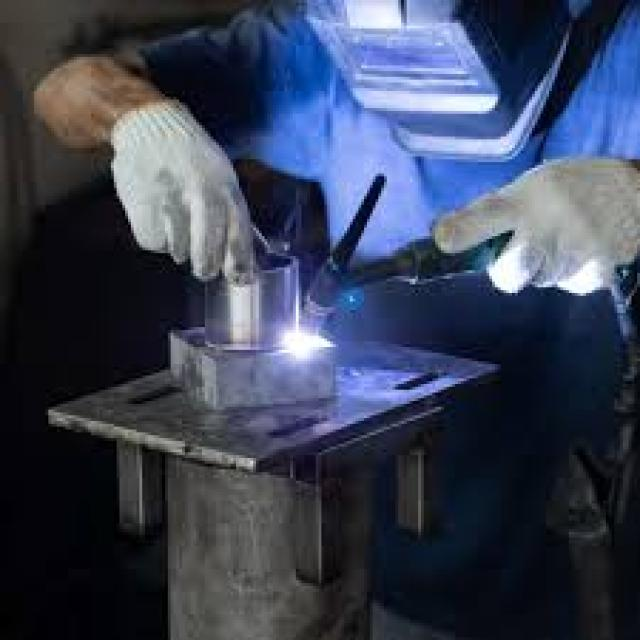welding: (290, 326, 317, 352)
